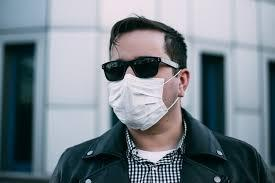mask: (108, 70, 173, 139)
sunglasses: (97, 52, 169, 82)
